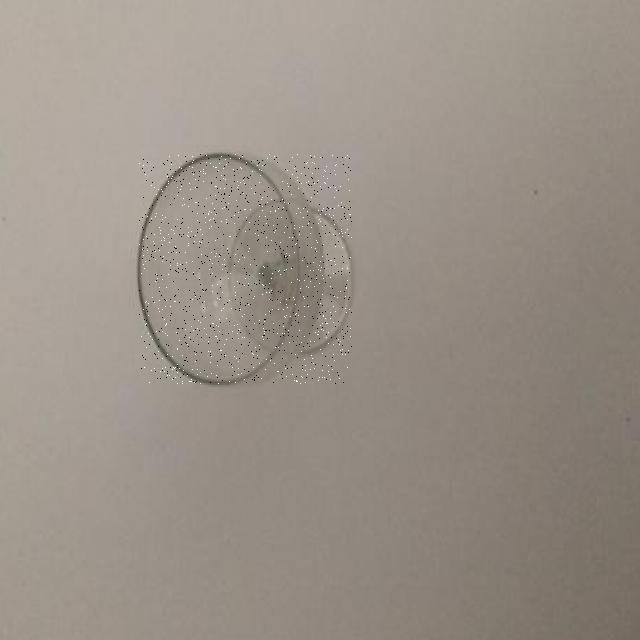glass: (139, 155, 352, 384)
